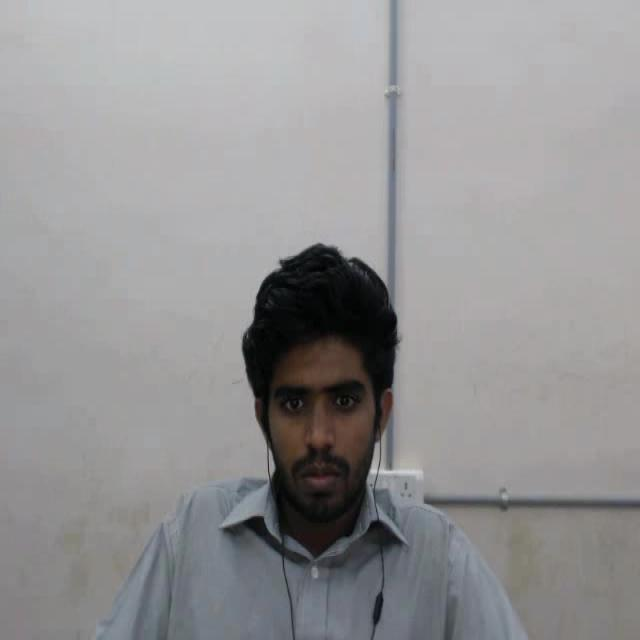Engaged: (182, 206, 436, 616)
